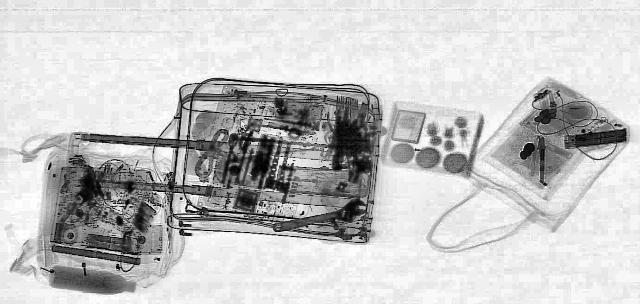Wrench: (257, 196, 383, 238)
